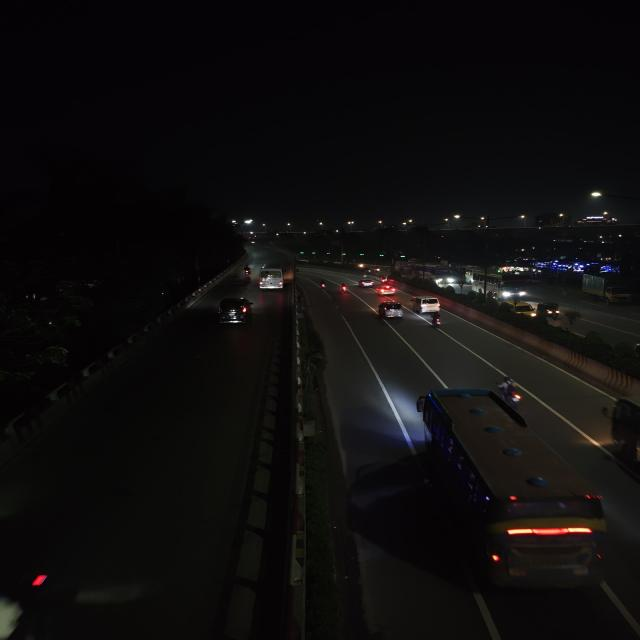bus: (408, 384, 614, 594), (475, 273, 528, 300), (257, 264, 285, 292), (420, 265, 455, 285)
car: (216, 295, 256, 328), (499, 299, 537, 317), (411, 294, 442, 314), (376, 300, 404, 320), (375, 284, 398, 296), (358, 278, 376, 288)
cng: (538, 301, 563, 319)
motorcycle: (493, 374, 528, 412), (428, 310, 444, 328), (241, 265, 254, 279), (338, 282, 351, 294), (317, 279, 330, 291)
truck: (581, 272, 637, 305), (473, 273, 528, 300)
